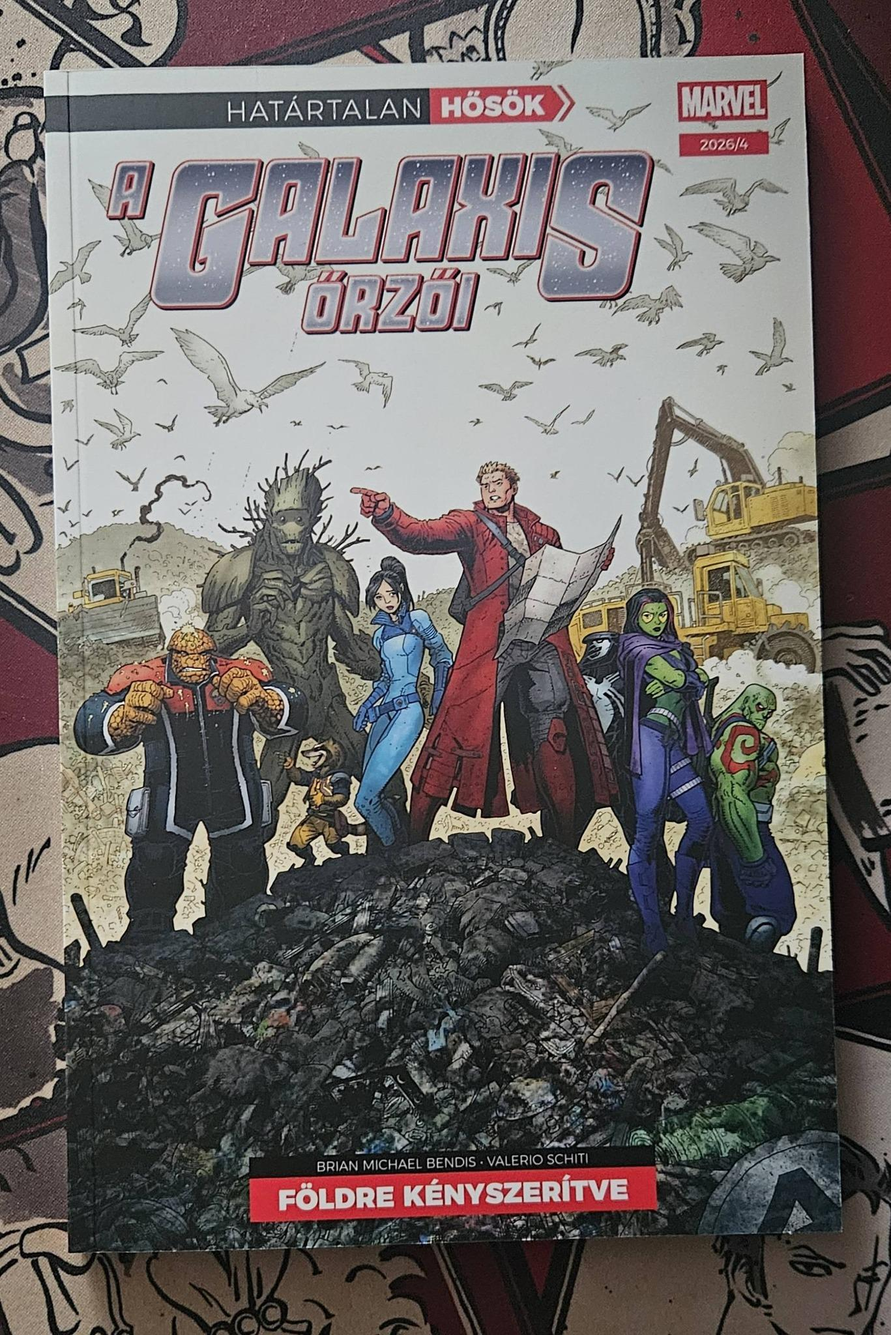comic: (43, 54, 840, 1252)
